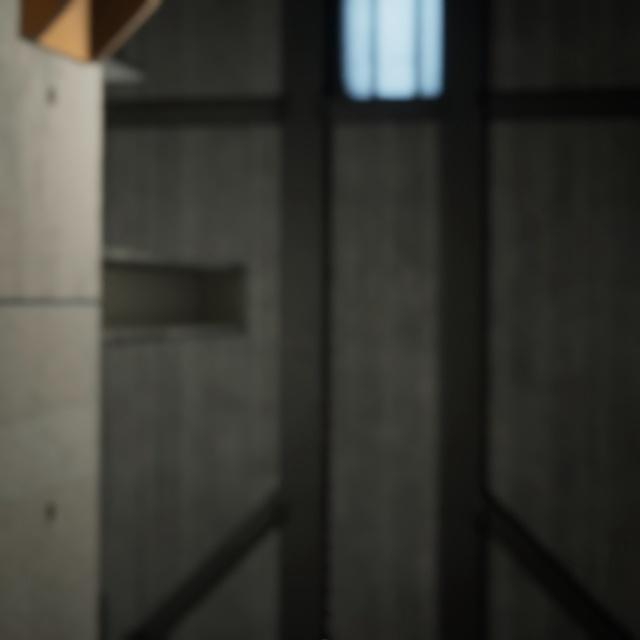bolt: (313, 611, 404, 640)
